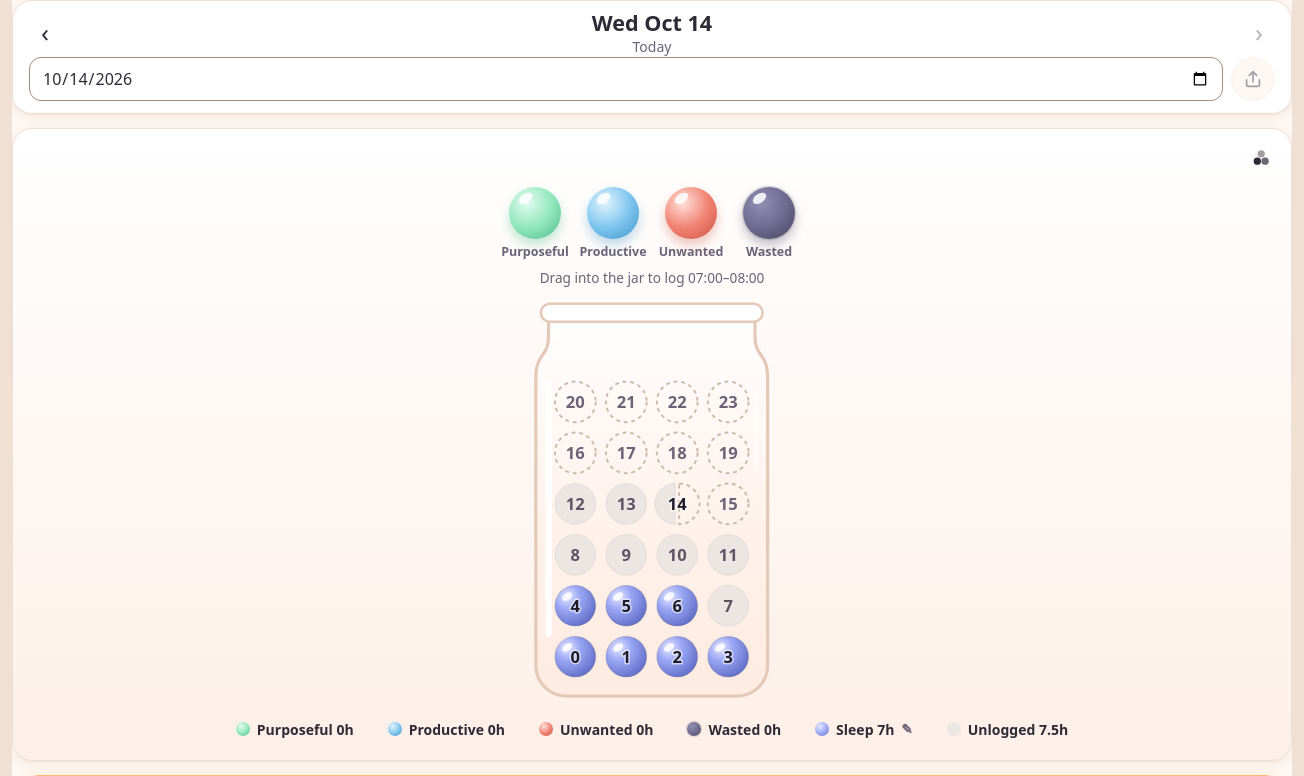
Test: DayView drag-to-drop tray › shows an error toast when the write is rejected
Press the mouse on the button named "Log 07:00–08:00 as Productive" at (613, 213), box [587,187,639,239]
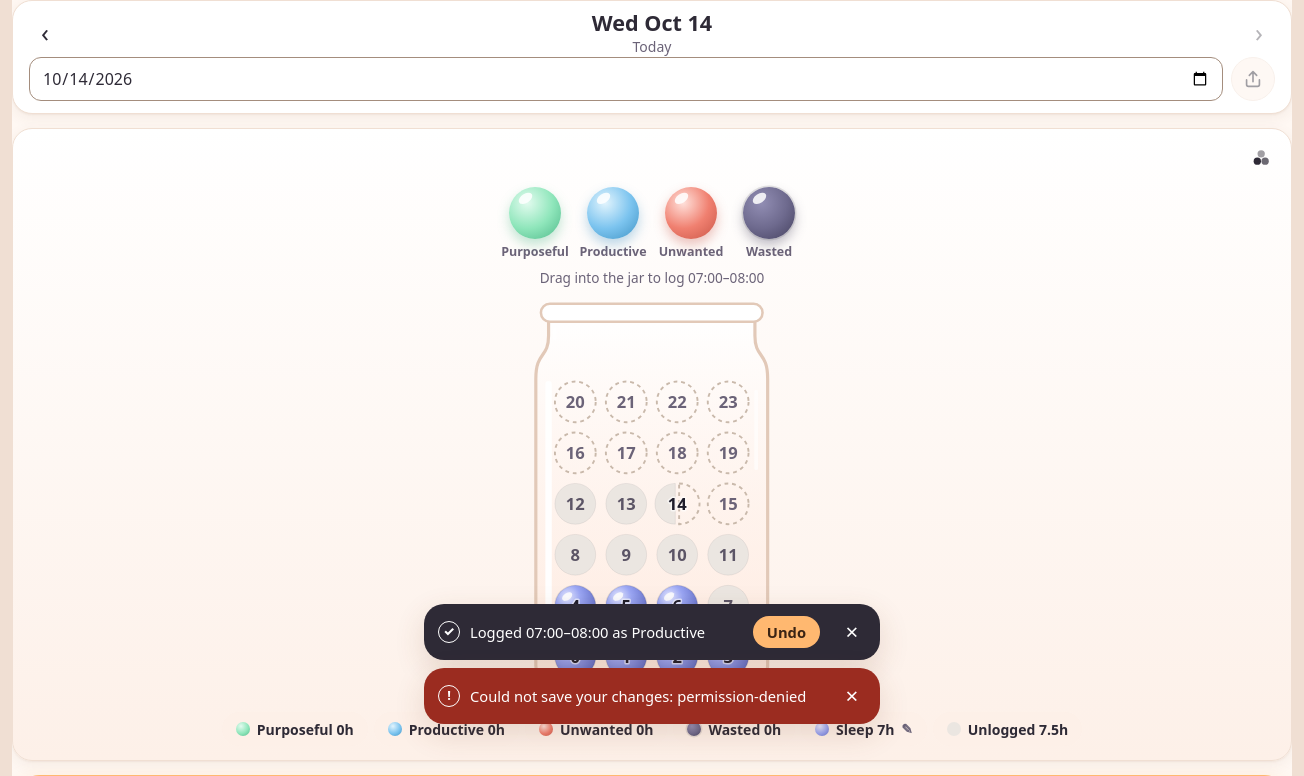
Result: the message "! Could not save your changes: permission-denied ×" is shown at [424,668,880,724]
